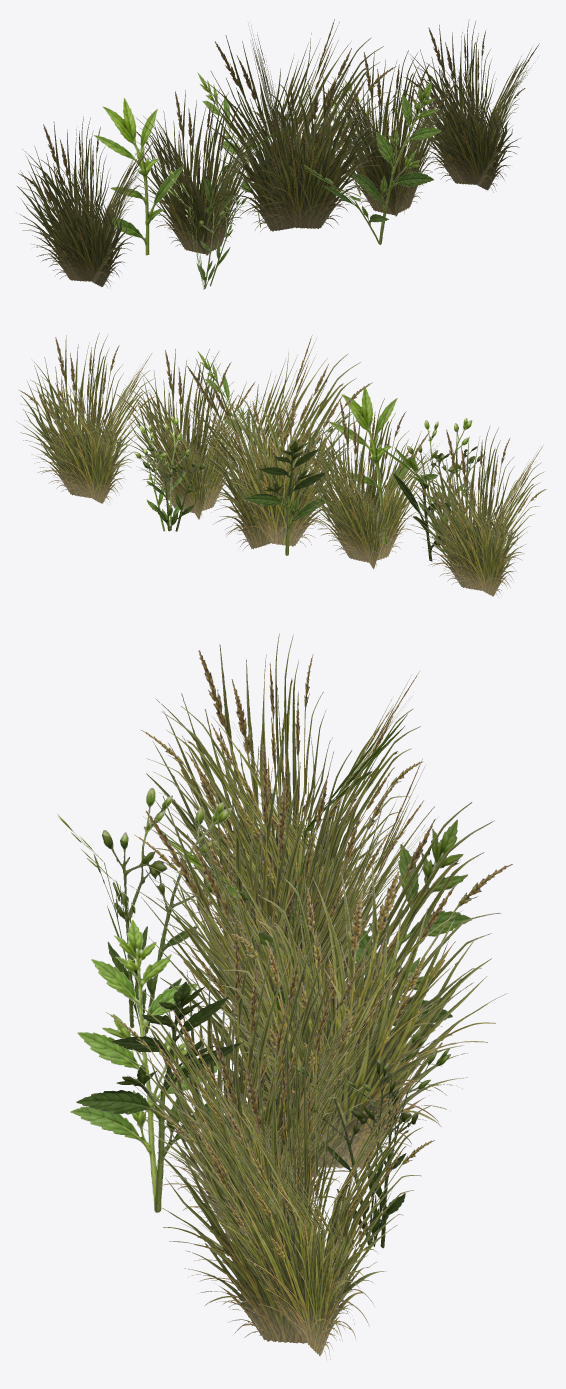
File: SM_VegetalWall_01.fbx
3 views of the same model, one above another, from view 1: azimuth 30°, elevation 25°; view 2: azimuth 150°, elevation 25°; view 3: azimuth 270°, elevation 25° (orthographic). The views are drawn at different scales.
Parts seen in each view (by area): view 1: SM_VegetalWall_01; view 2: SM_VegetalWall_01; view 3: SM_VegetalWall_01.
Part boxes in pixels (bbox=[...]): SM_VegetalWall_01: bbox=[16, 19, 539, 289]; SM_VegetalWall_01: bbox=[16, 333, 546, 597]; SM_VegetalWall_01: bbox=[57, 633, 512, 1359].
Bounding box in the file's own units: 1.93 × 0.6626 × 0.7688.
